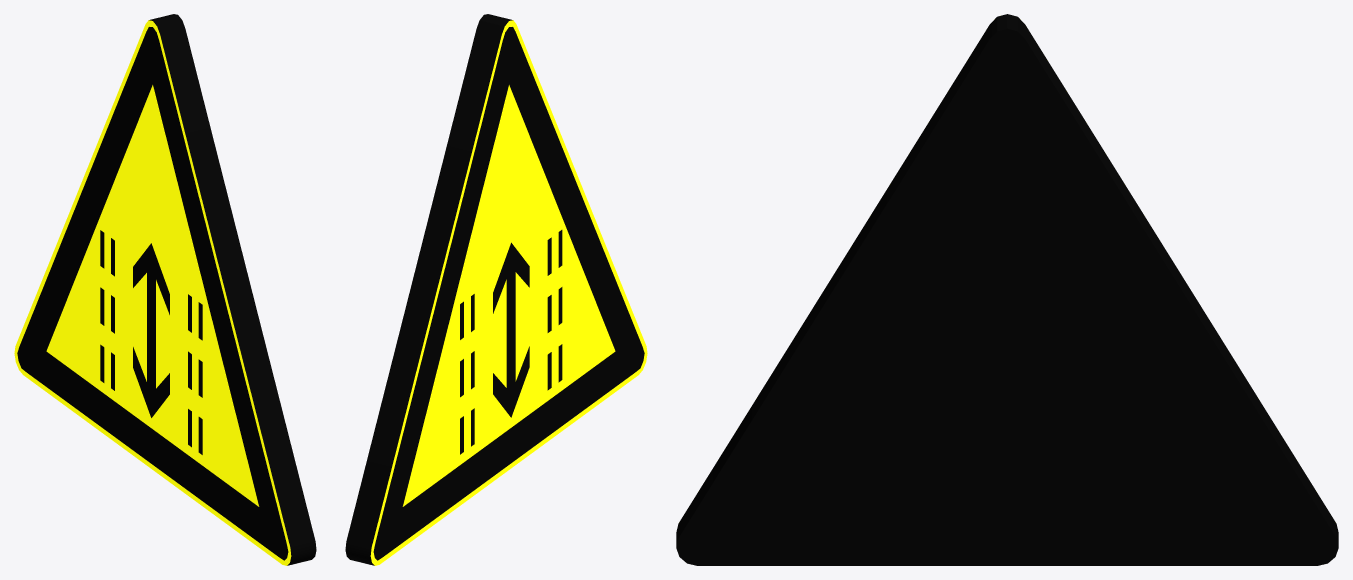
File: Attention_Tide_Lanes.glb
The picture shows the model from 3 angles, left to right: view 1: azimuth 30°, elevation 25°; view 2: azimuth 150°, elevation 25°; view 3: azimuth 270°, elevation 25°; orthographic projection. The views are drawn at different scales.
Visible parts, largest first — view 1: Attention_Tide_Lanes; view 2: Attention_Tide_Lanes; view 3: Attention_Tide_Lanes.
Boxes of the visible parts, x1,y1,x2,y2 form: Attention_Tide_Lanes: (14, 14, 316, 565); Attention_Tide_Lanes: (345, 14, 647, 565); Attention_Tide_Lanes: (676, 14, 1338, 565).
Size of the model in its own units: 0.0643 by 1.02 by 1.14.
